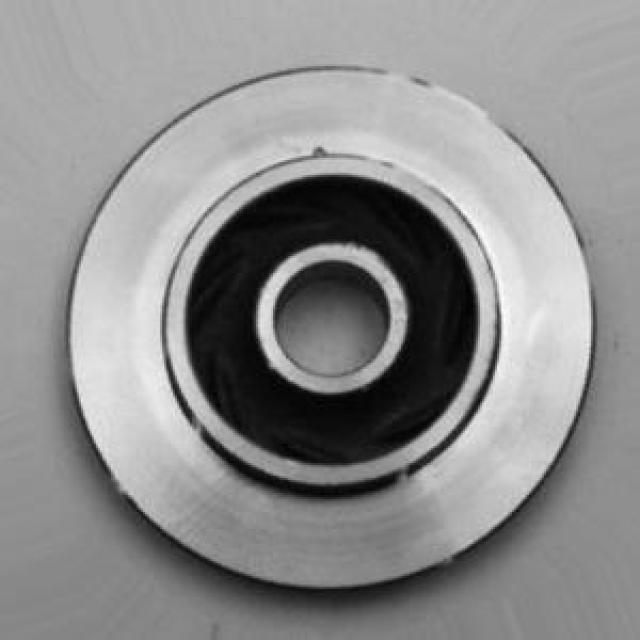Defect: (304, 139, 337, 161)
